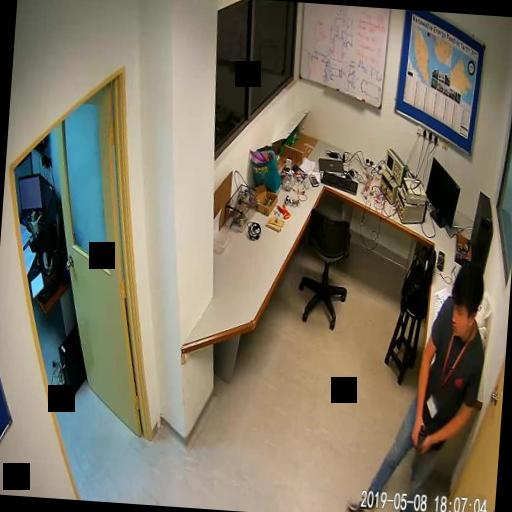Handgun: (407, 423, 425, 477)
